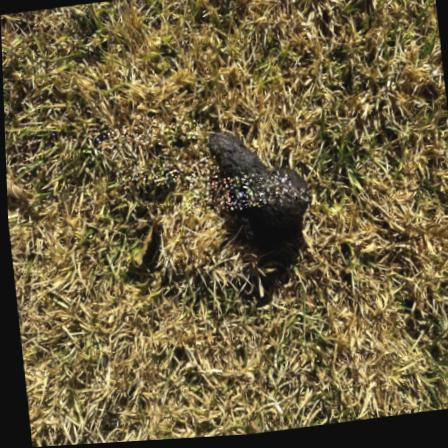dog-poop: (199, 124, 315, 219)
